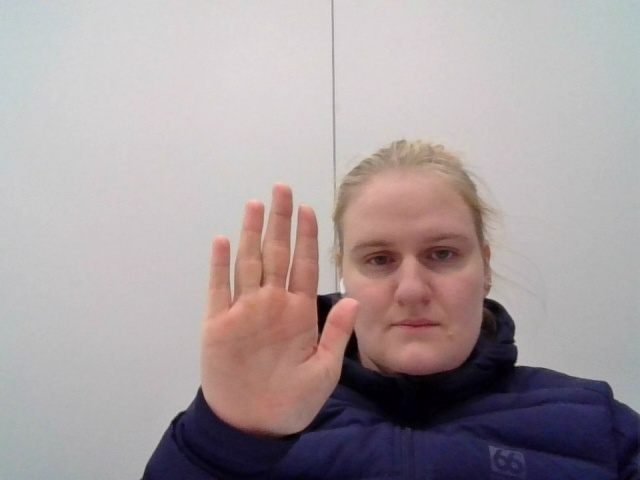nada: (161, 158, 372, 453)
